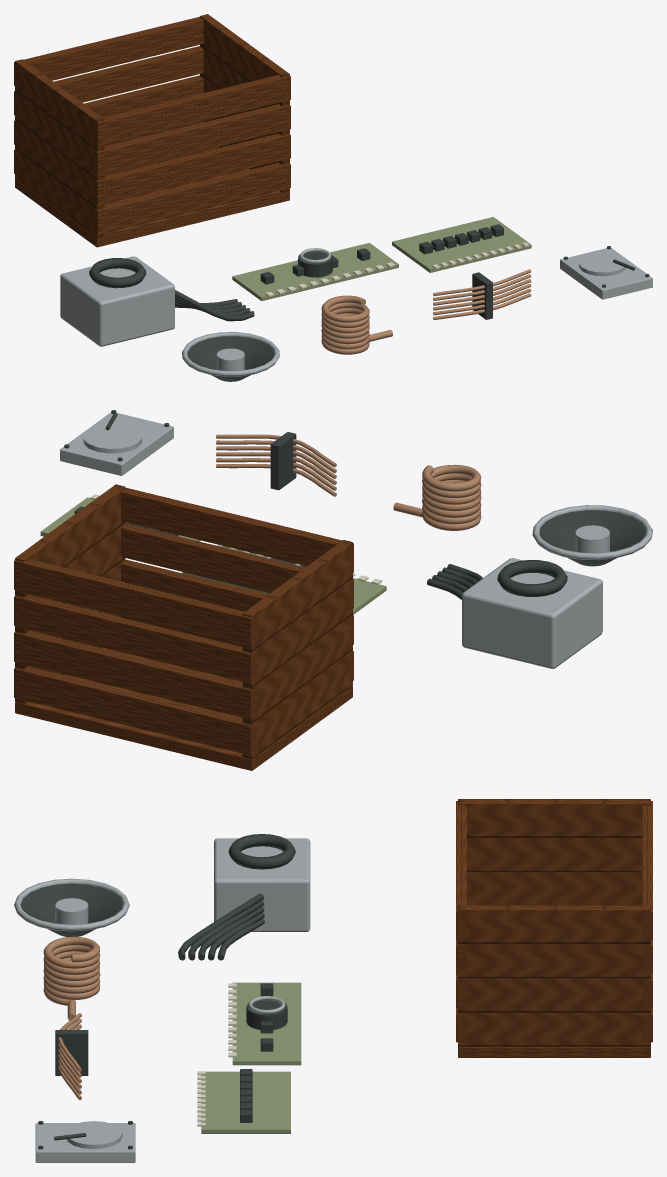
Rendered from scavengers-loot-library-electronics-salv-6756f240-starter-scene__2684.glb.
3 views of the same model, one above another, from view 1: azimuth 30°, elevation 25°; view 2: azimuth 150°, elevation 25°; view 3: azimuth 270°, elevation 25° (orthographic). The views are drawn at different scales.
Visible parts, largest first — view 1: 000-packing-crate/0, 001-power-supply/0, 002-graphics-board/0, 003-circuit-board/0, 007-hard-drive/0, 005-copper-coil/0, 001-power-supply/1, 006-wire-bundle/0, 004-speaker-driver/0, 004-speaker-driver/1, 002-graphics-board/1, 003-circuit-board/1 (+1 smaller); view 2: 000-packing-crate/0, 001-power-supply/0, 007-hard-drive/0, 005-copper-coil/0, 006-wire-bundle/0, 004-speaker-driver/0, 001-power-supply/1, 004-speaker-driver/1, 006-wire-bundle/1, 002-graphics-board/0; view 3: 000-packing-crate/0, 001-power-supply/0, 003-circuit-board/0, 001-power-supply/1, 002-graphics-board/0, 007-hard-drive/0, 005-copper-coil/0, 004-speaker-driver/0, 004-speaker-driver/1, 002-graphics-board/1, 006-wire-bundle/0, 006-wire-bundle/1 (+2 smaller).
Part boxes in pixels (x1,y1,x2,y2): 000-packing-crate/0: [14, 14, 290, 247]; 001-power-supply/0: [60, 256, 174, 346]; 002-graphics-board/0: [232, 243, 398, 301]; 003-circuit-board/0: [392, 217, 531, 272]; 007-hard-drive/0: [560, 248, 652, 299]; 005-copper-coil/0: [321, 295, 392, 354]; 001-power-supply/1: [89, 258, 254, 321]; 006-wire-bundle/0: [433, 269, 531, 319]; 004-speaker-driver/0: [187, 336, 273, 381]; 004-speaker-driver/1: [181, 332, 279, 376]; 002-graphics-board/1: [260, 248, 370, 284]; 003-circuit-board/1: [419, 224, 503, 254]; 000-packing-crate/0: [14, 484, 353, 770]; 001-power-supply/0: [462, 558, 602, 668]; 007-hard-drive/0: [60, 412, 173, 475]; 005-copper-coil/0: [393, 464, 481, 530]; 006-wire-bundle/0: [216, 434, 336, 496]; 004-speaker-driver/0: [539, 510, 645, 566]; 001-power-supply/1: [427, 560, 567, 599]; 004-speaker-driver/1: [532, 505, 652, 560]; 006-wire-bundle/1: [270, 432, 296, 490]; 002-graphics-board/0: [182, 545, 386, 614]; 000-packing-crate/0: [456, 799, 652, 1057]; 001-power-supply/0: [214, 838, 310, 931]; 003-circuit-board/0: [201, 1071, 290, 1133]; 001-power-supply/1: [178, 834, 295, 960]; 002-graphics-board/0: [232, 982, 301, 1065]; 007-hard-drive/0: [35, 1121, 135, 1162]; 005-copper-coil/0: [43, 936, 100, 1020]; 004-speaker-driver/0: [21, 883, 122, 936]; 004-speaker-driver/1: [14, 878, 129, 931]; 002-graphics-board/1: [246, 983, 287, 1051]; 006-wire-bundle/0: [58, 1013, 81, 1099]; 006-wire-bundle/1: [55, 1030, 88, 1075].
Size of the model in its own units: 0.938 by 0.238 by 0.927.
Materials: 6 (1 with a texture image).
